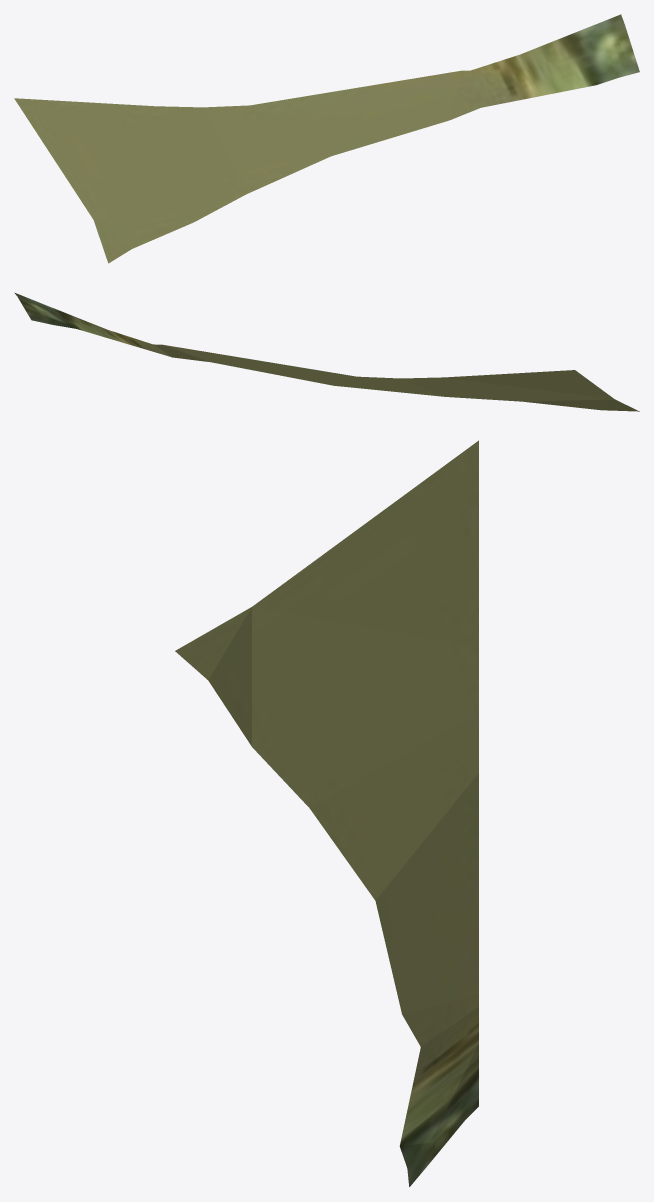
3 views of the same model, one above another, from view 1: azimuth 30°, elevation 25°; view 2: azimuth 150°, elevation 25°; view 3: azimuth 270°, elevation 25° (orthographic). The views are drawn at different scales.
Bounding box in the file's own units: 2.25 × 0.3826 × 0.5278.
1 material, 1 textured.
